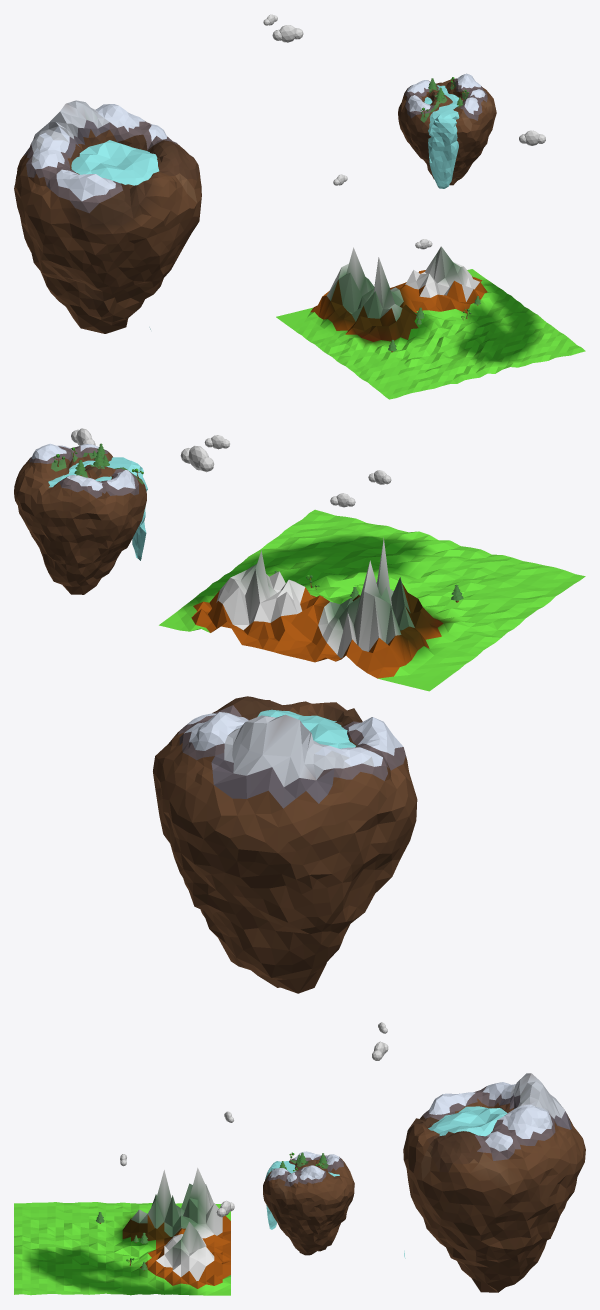
Rendered from world.glb.
3 renders of one model, top to bottom at view 1: azimuth 30°, elevation 25°; view 2: azimuth 150°, elevation 25°; view 3: azimuth 270°, elevation 25°, orthographic. The views are drawn at different scales.
Visible parts, largest first — view 1: Planet_2, Planina, Planet_1, Jezero_1, Jezero_2, oblaci; view 2: Planet_2, Planina, Planet_1, oblaci, Jezero_1, Jezero_2; view 3: Planet_2, Planina, Planet_1, Jezero_1, oblaci, Jezero_2.
Boxes of the visible parts, <box> form: Planet_2: <box>14,100,201,333</box>; Planina: <box>276,246,585,399</box>; Planet_1: <box>398,73,496,185</box>; Jezero_1: <box>71,140,159,329</box>; Jezero_2: <box>424,85,462,188</box>; oblaci: <box>263,14,545,249</box>; Planet_2: <box>153,696,417,993</box>; Planina: <box>159,509,585,691</box>; Planet_1: <box>14,443,146,594</box>; oblaci: <box>71,428,391,507</box>; Jezero_1: <box>257,709,355,748</box>; Jezero_2: <box>48,457,147,560</box>; Planet_2: <box>403,1073,585,1292</box>; Planina: <box>14,1167,230,1295</box>; Planet_1: <box>263,1151,354,1255</box>; Jezero_1: <box>404,1106,507,1258</box>; oblaci: <box>120,1022,388,1217</box>; Jezero_2: <box>265,1161,339,1229</box>.
Size of the model in its own units: 568 by 471 by 772.
